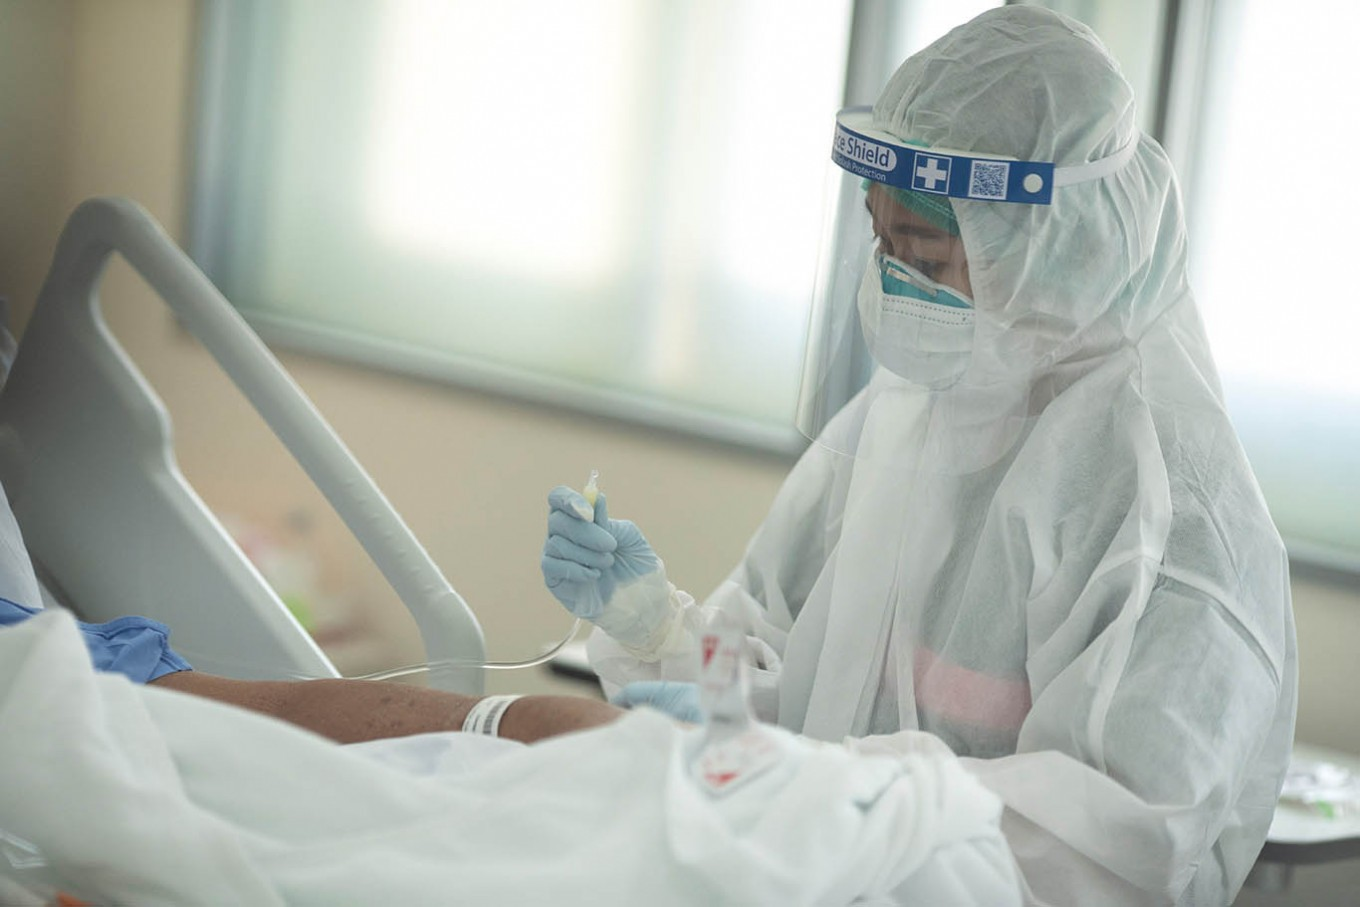Coverall: (570, 3, 1300, 907)
Face Shield: (799, 106, 1089, 471)
Gloves: (541, 478, 681, 657)
with_mask: (856, 203, 992, 400)
